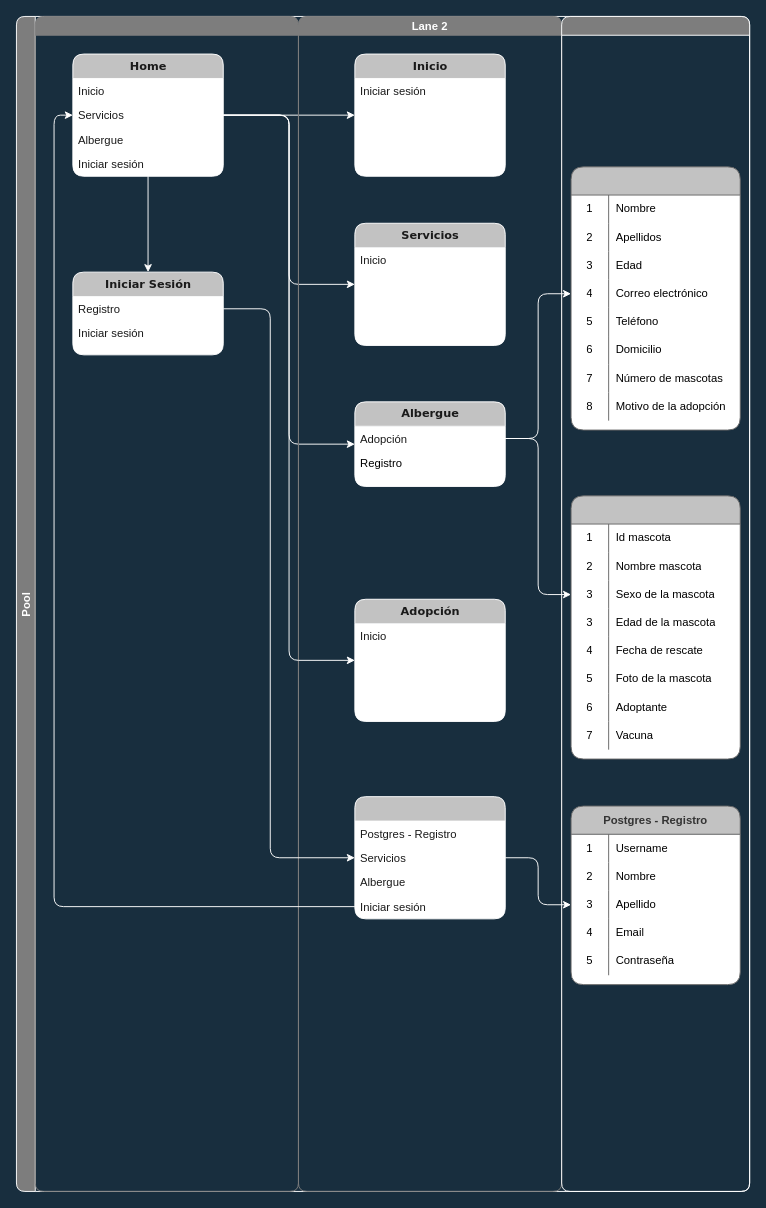
This 766x1208 diagram has some shape labels left out. Each missing label, with the box of its shape:
Lane 1: (34, 16, 298, 1191)
Lane 3: (561, 16, 750, 1191)
Postgres - Albergue/Adopción: (570, 166, 740, 430)
Postgres - Albergue/Registro: (570, 495, 740, 759)
Registro de usuario: (354, 796, 505, 919)
